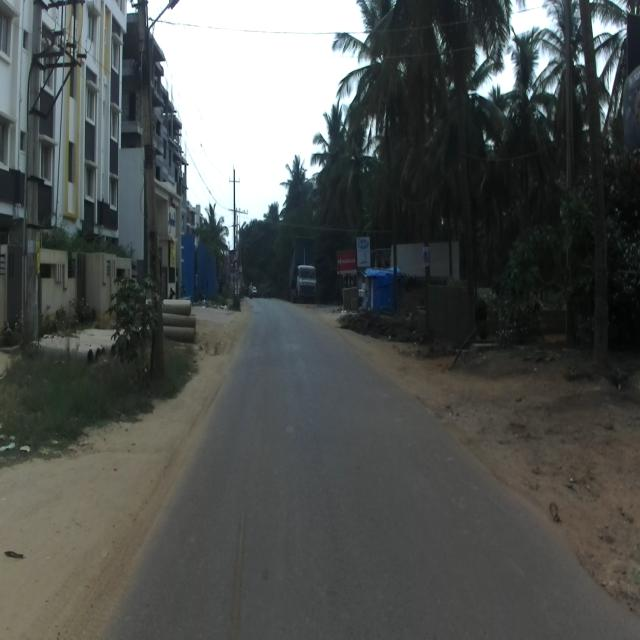electric pole ahead at: (136, 19, 168, 378)
